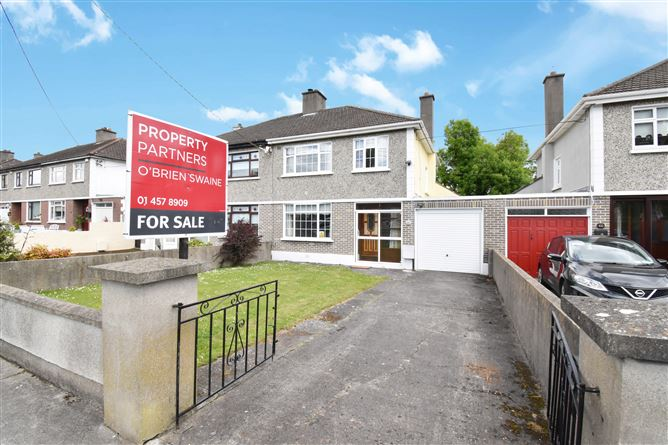property sign: (121, 102, 240, 252)
